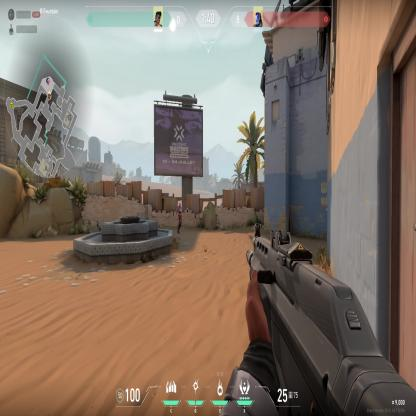enemy: (176, 201, 184, 235)
